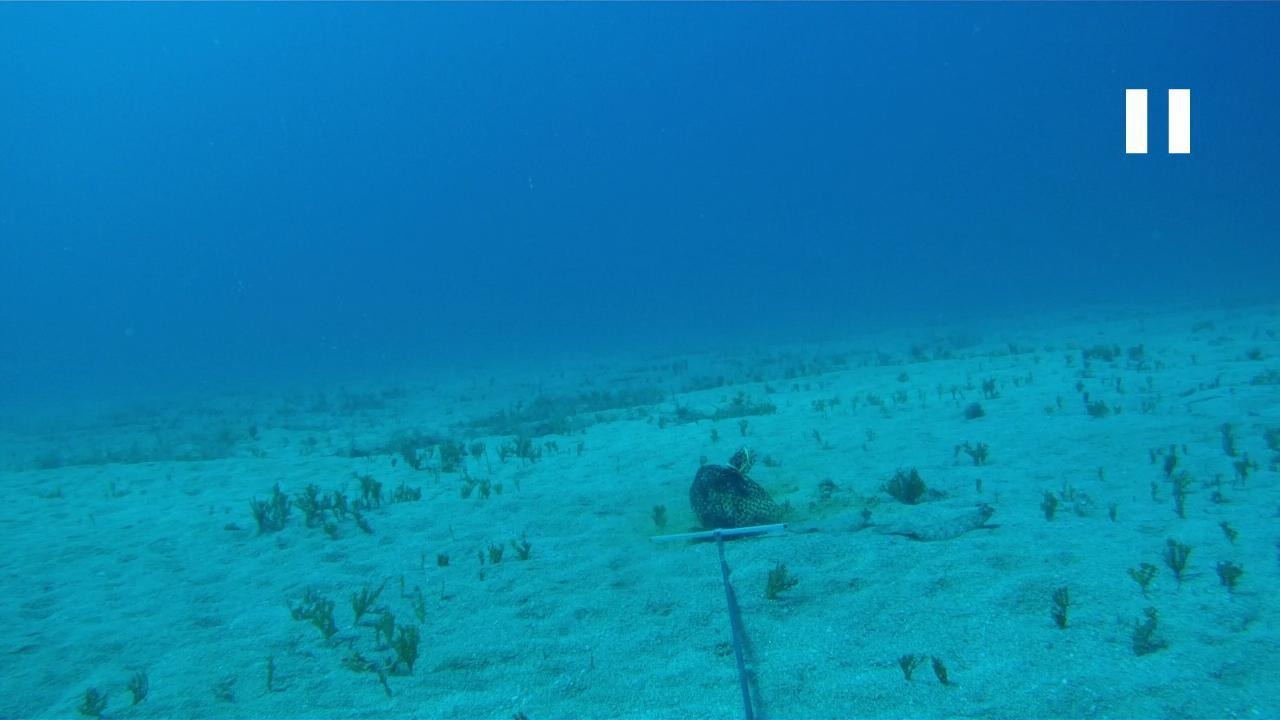bothus: (870, 503, 993, 546), (776, 503, 868, 534)
